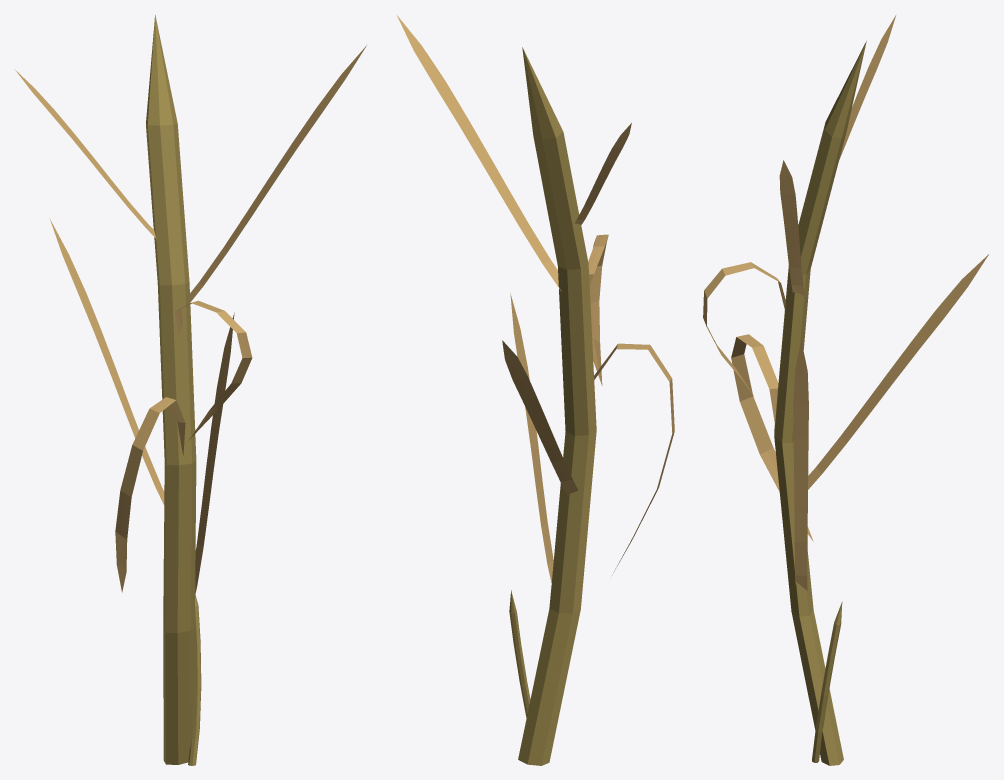
File: Rice Tonkhla Bigger Bad.glb
3 renders of one model, left to right at view 1: azimuth 30°, elevation 25°; view 2: azimuth 150°, elevation 25°; view 3: azimuth 270°, elevation 25°, orthographic. The views are drawn at different scales.
Visible parts, largest first — view 1: Rice Tonkhla Bad; view 2: Rice Tonkhla Bad; view 3: Rice Tonkhla Bad.
Boxes of the visible parts, x1=… form: Rice Tonkhla Bad: x1=15, y1=15, x2=367, y2=765; Rice Tonkhla Bad: x1=397, y1=15, x2=674, y2=765; Rice Tonkhla Bad: x1=703, y1=15, x2=988, y2=765.
Bounding box in the file's own units: 0.1992 × 0.4728 × 0.1715.
